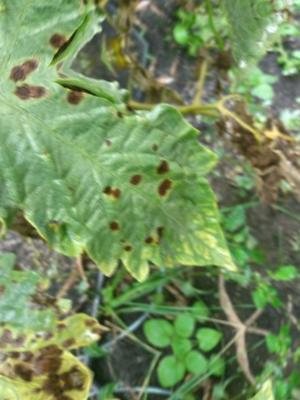Tomato Early blight leaf: (0, 40, 235, 345)
